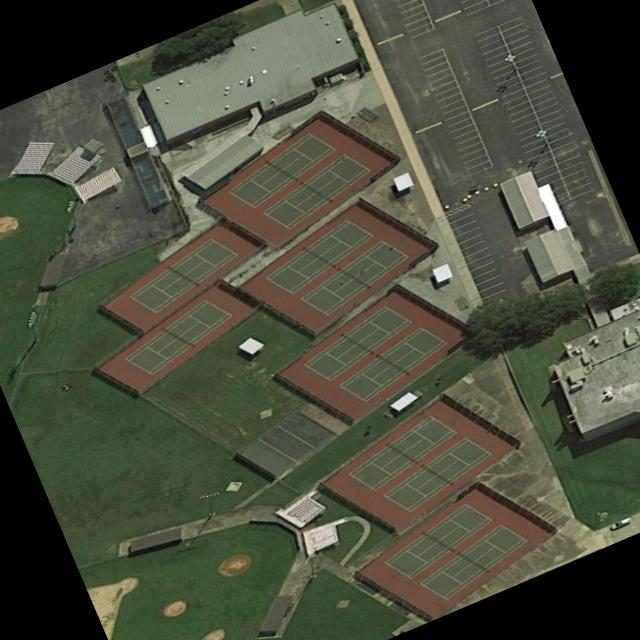small-vehicle: (610, 514, 633, 529)
